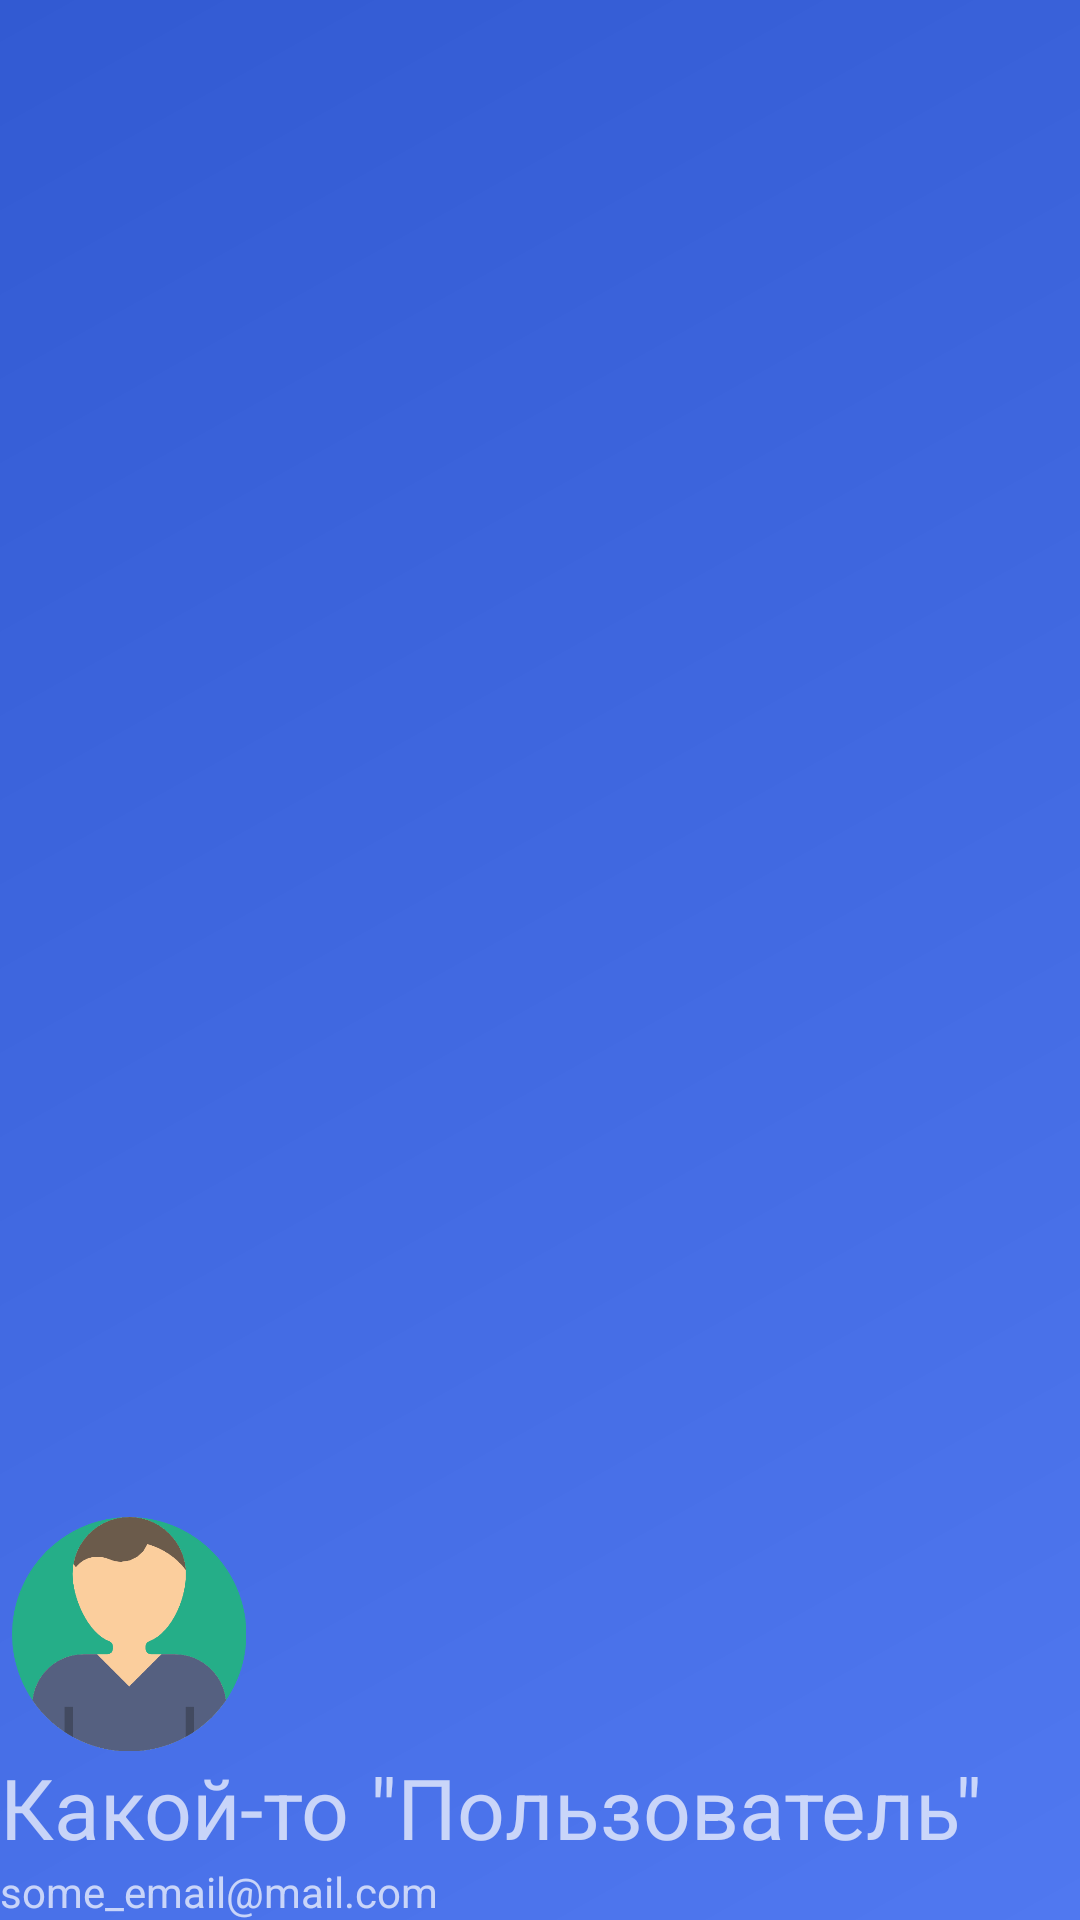

Where to tap for icons on this 1080*1920 app screen, as [x,y]:
Изображение профиля: [129,1634]
